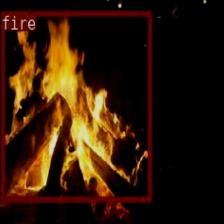fire: (0, 10, 151, 202)
